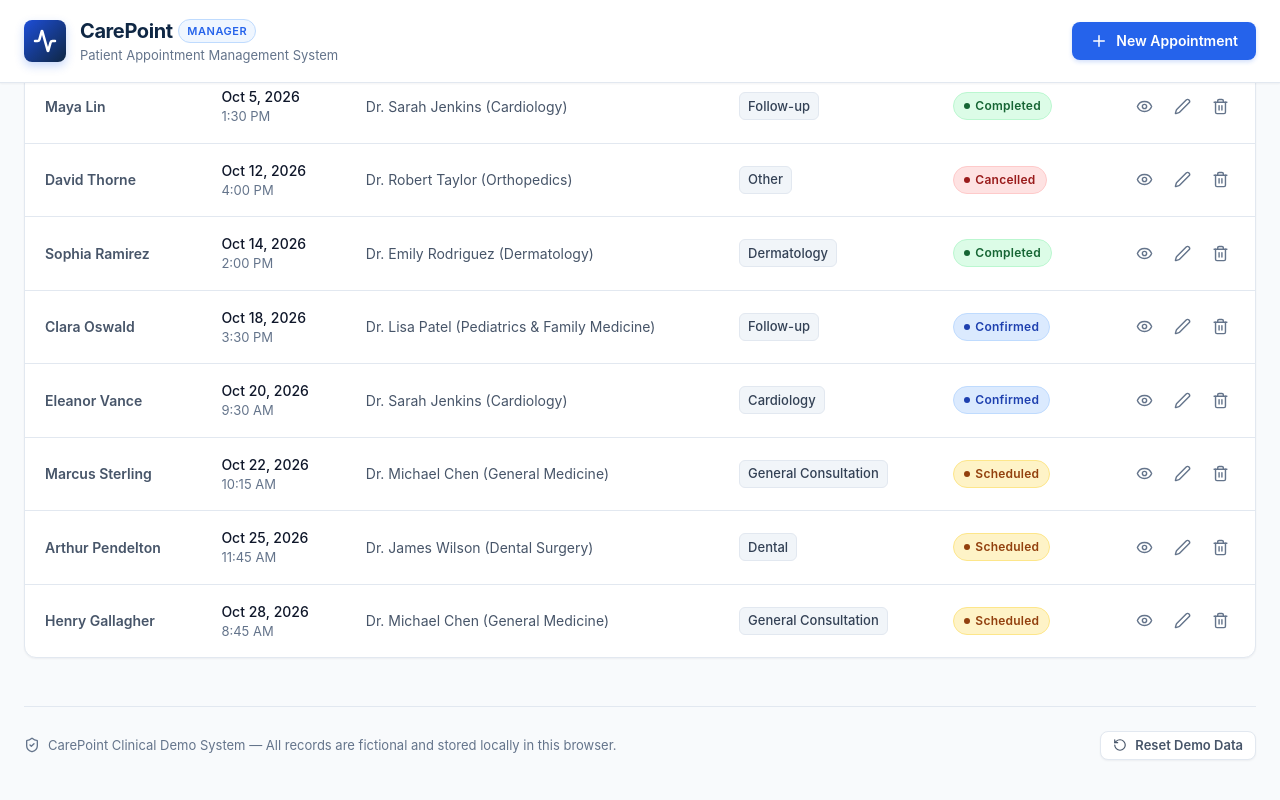
Scenario: CarePoint Dashboard Component Integration Tests › confirms appointment deletion and removes it from table and storage
The width and height of the screenshot is (1280, 800).
(page scrolled)
Click the button with test id "delete-apt-apt-demo-01": (1220, 400) x1=1205 y1=385 x2=1235 y2=415
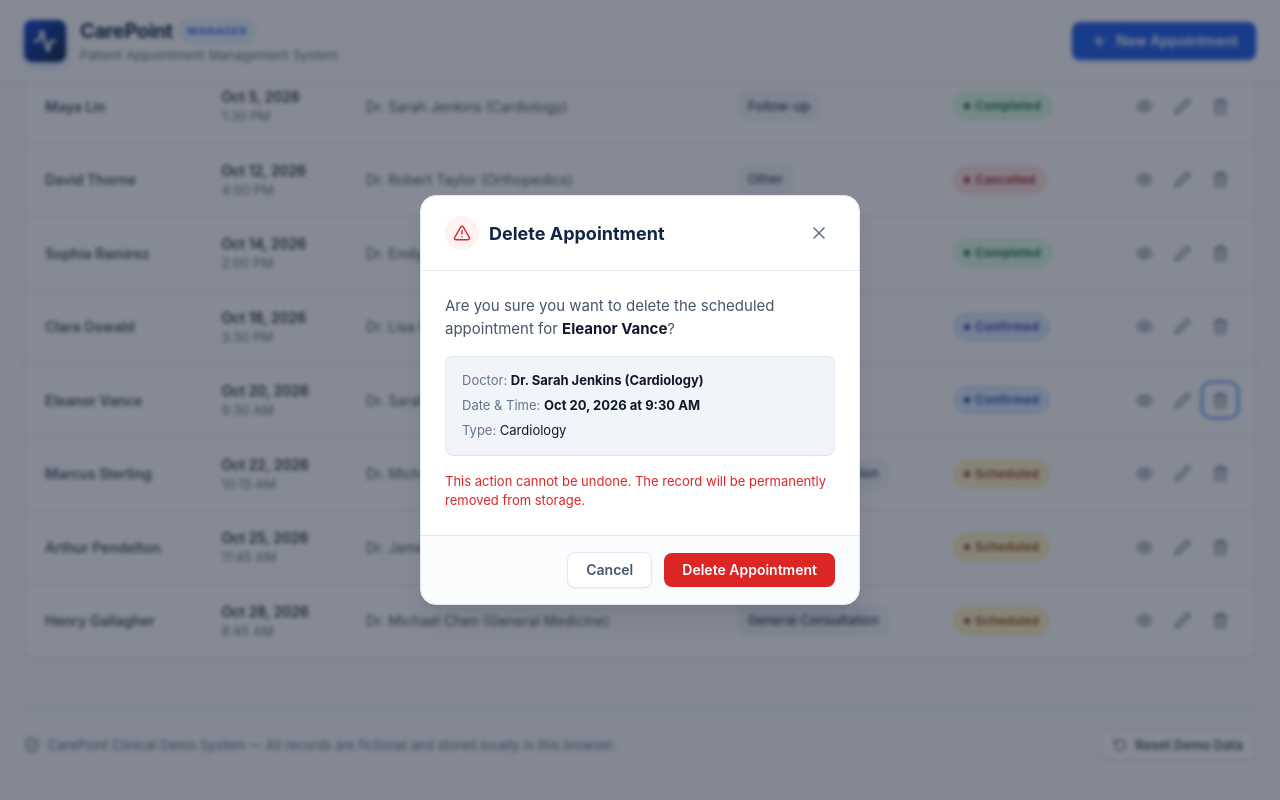
Result: the dialog with test id "delete-confirm-modal" is shown at x1=420 y1=195 x2=860 y2=605
// Confirm deletion
Click the button with test id "confirm-delete-btn": (750, 570) x1=664 y1=553 x2=835 y2=587
(page scrolled)
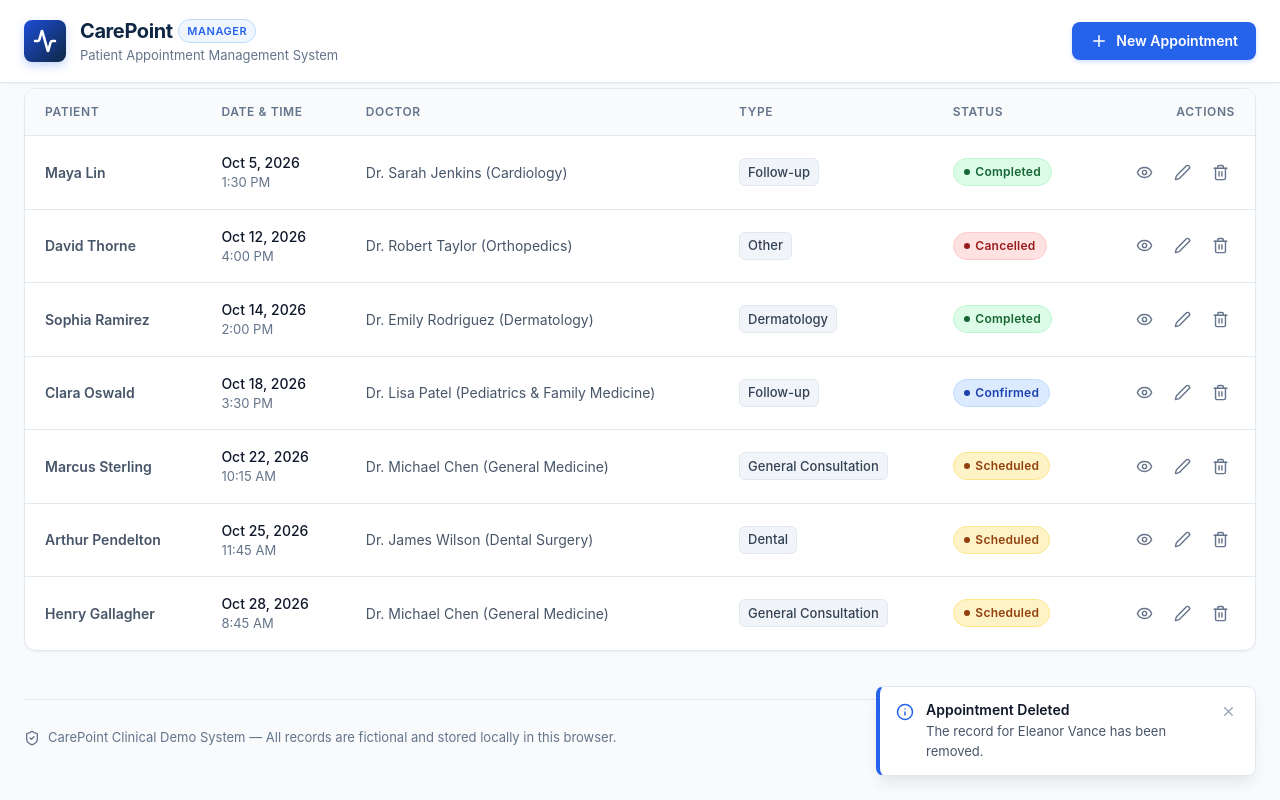
Result: the dialog with test id "delete-confirm-modal" is gone
Result: the message "Appointment Deleted The record for Eleanor Vance has been removed." is shown at x1=876 y1=686 x2=1256 y2=776
